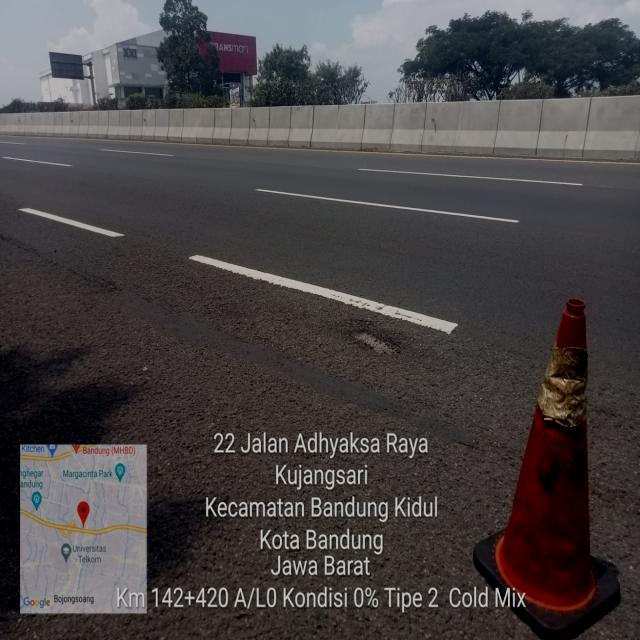Buraco: (341, 324, 405, 360)
